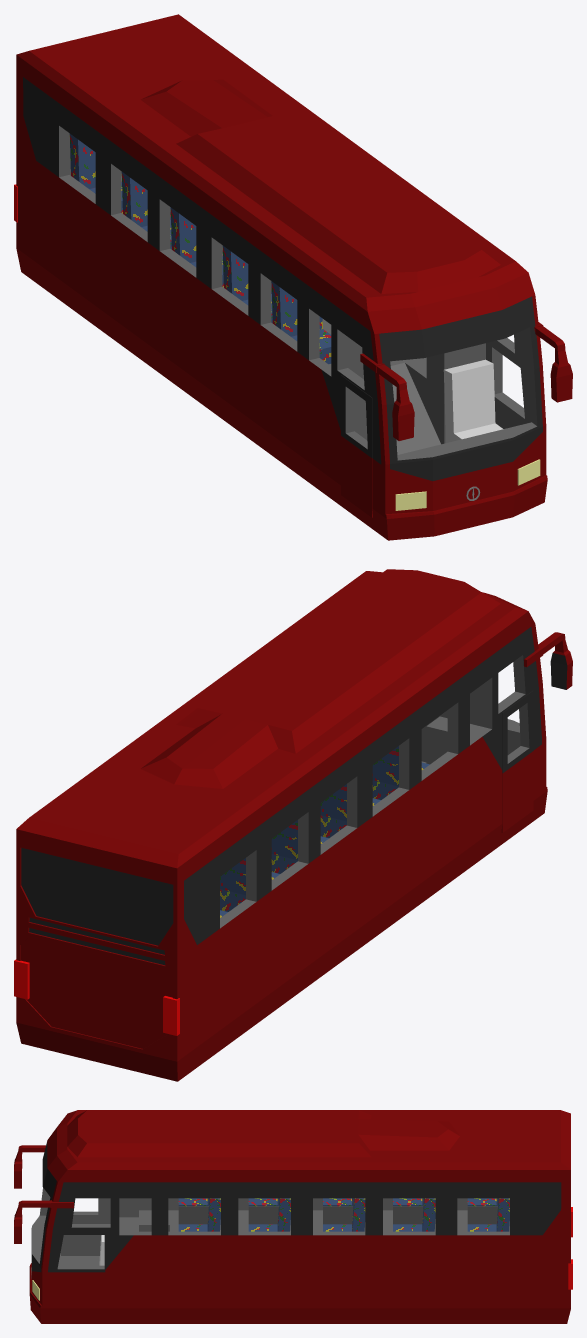
File: jetliner.fbx
The picture shows the model from 3 angles, top to bottom: view 1: azimuth 30°, elevation 25°; view 2: azimuth 150°, elevation 25°; view 3: azimuth 270°, elevation 25°; orthographic projection. The views are drawn at different scales.
Visible parts, largest first — view 1: Cube, Model_0.012, Model_0, Model_0.003, Model_0.004, Model_0.001, Model_0.002; view 2: Cube, Model_0.003, Model_0, Model_0.001, Model_0.004; view 3: Cube, Model_0.002, Model_0.003, Model_0, Model_0.004, Model_0.001.
Part boxes in pixels (x1=…): Cube: x1=14, y1=14, x2=572, y2=540; Model_0.012: x1=443, y1=359, x2=503, y2=442; Model_0: x1=271, y1=281, x2=331, y2=364; Model_0.003: x1=222, y1=245, x2=272, y2=322; Model_0.004: x1=121, y1=172, x2=171, y2=249; Model_0.001: x1=170, y1=207, x2=223, y2=287; Model_0.002: x1=69, y1=133, x2=122, y2=213; Cube: x1=14, y1=569, x2=572, y2=1081; Model_0.003: x1=320, y1=784, x2=380, y2=838; Model_0: x1=372, y1=746, x2=429, y2=799; Model_0.001: x1=271, y1=820, x2=328, y2=873; Model_0.004: x1=220, y1=858, x2=279, y2=911; Cube: x1=14, y1=1110, x2=572, y2=1323; Model_0.002: x1=467, y1=1198, x2=509, y2=1231; Model_0.003: x1=248, y1=1198, x2=290, y2=1231; Model_0: x1=178, y1=1198, x2=220, y2=1231; Model_0.004: x1=393, y1=1198, x2=435, y2=1231; Model_0.001: x1=323, y1=1198, x2=365, y2=1231.
Size of the model in its own units: 331 by 427 by 1276.
6 materials, 3 textured.
